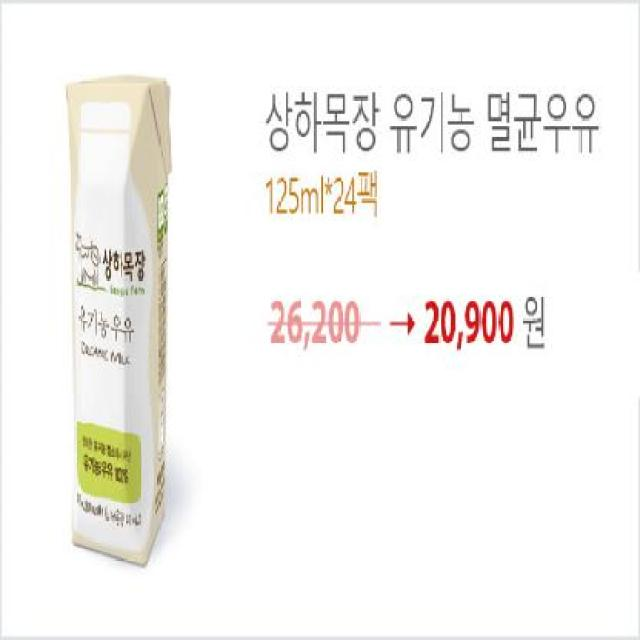tetra: (52, 40, 188, 594)
